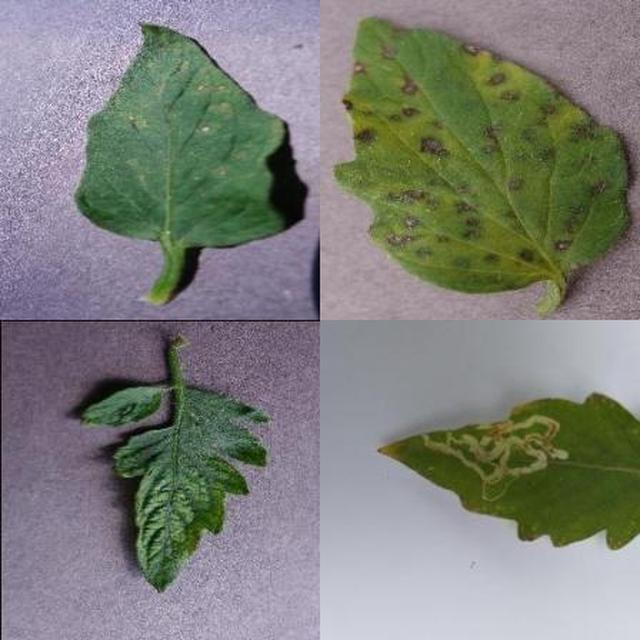Septoria Leaf: (221, 189, 640, 640)
